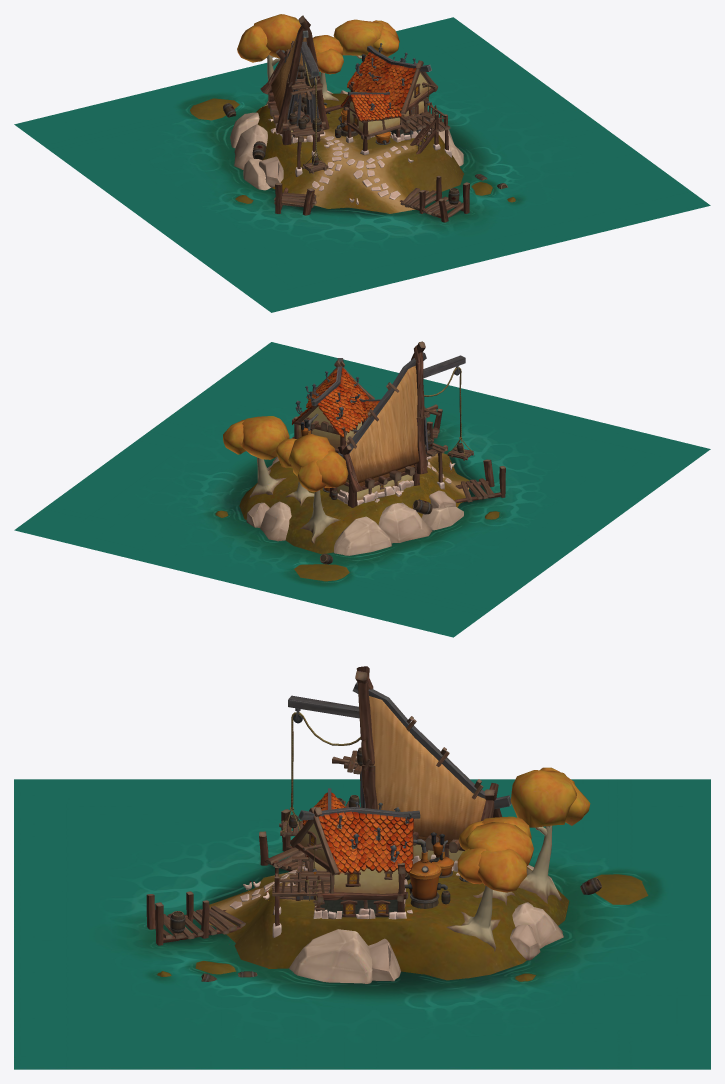
The model's file is island2-opt.glb.
The picture shows the model from 3 angles, top to bottom: view 1: azimuth 30°, elevation 25°; view 2: azimuth 150°, elevation 25°; view 3: azimuth 270°, elevation 25°; orthographic projection. The views are drawn at different scales.
Visible parts, largest first — view 1: object 1, model_2; view 2: object 1, model_2; view 3: object 1, model_2.
Boxes of the visible parts, x1,y1,x2,y2 form: object 1: [14, 14, 710, 312]; model_2: [223, 54, 507, 204]; object 1: [14, 341, 710, 637]; model_2: [300, 419, 463, 564]; object 1: [14, 666, 710, 1069]; model_2: [170, 747, 601, 981].
Size of the model in its own units: 31.83 by 13.01 by 32.3.
Materials: 2 (2 with a texture image).
